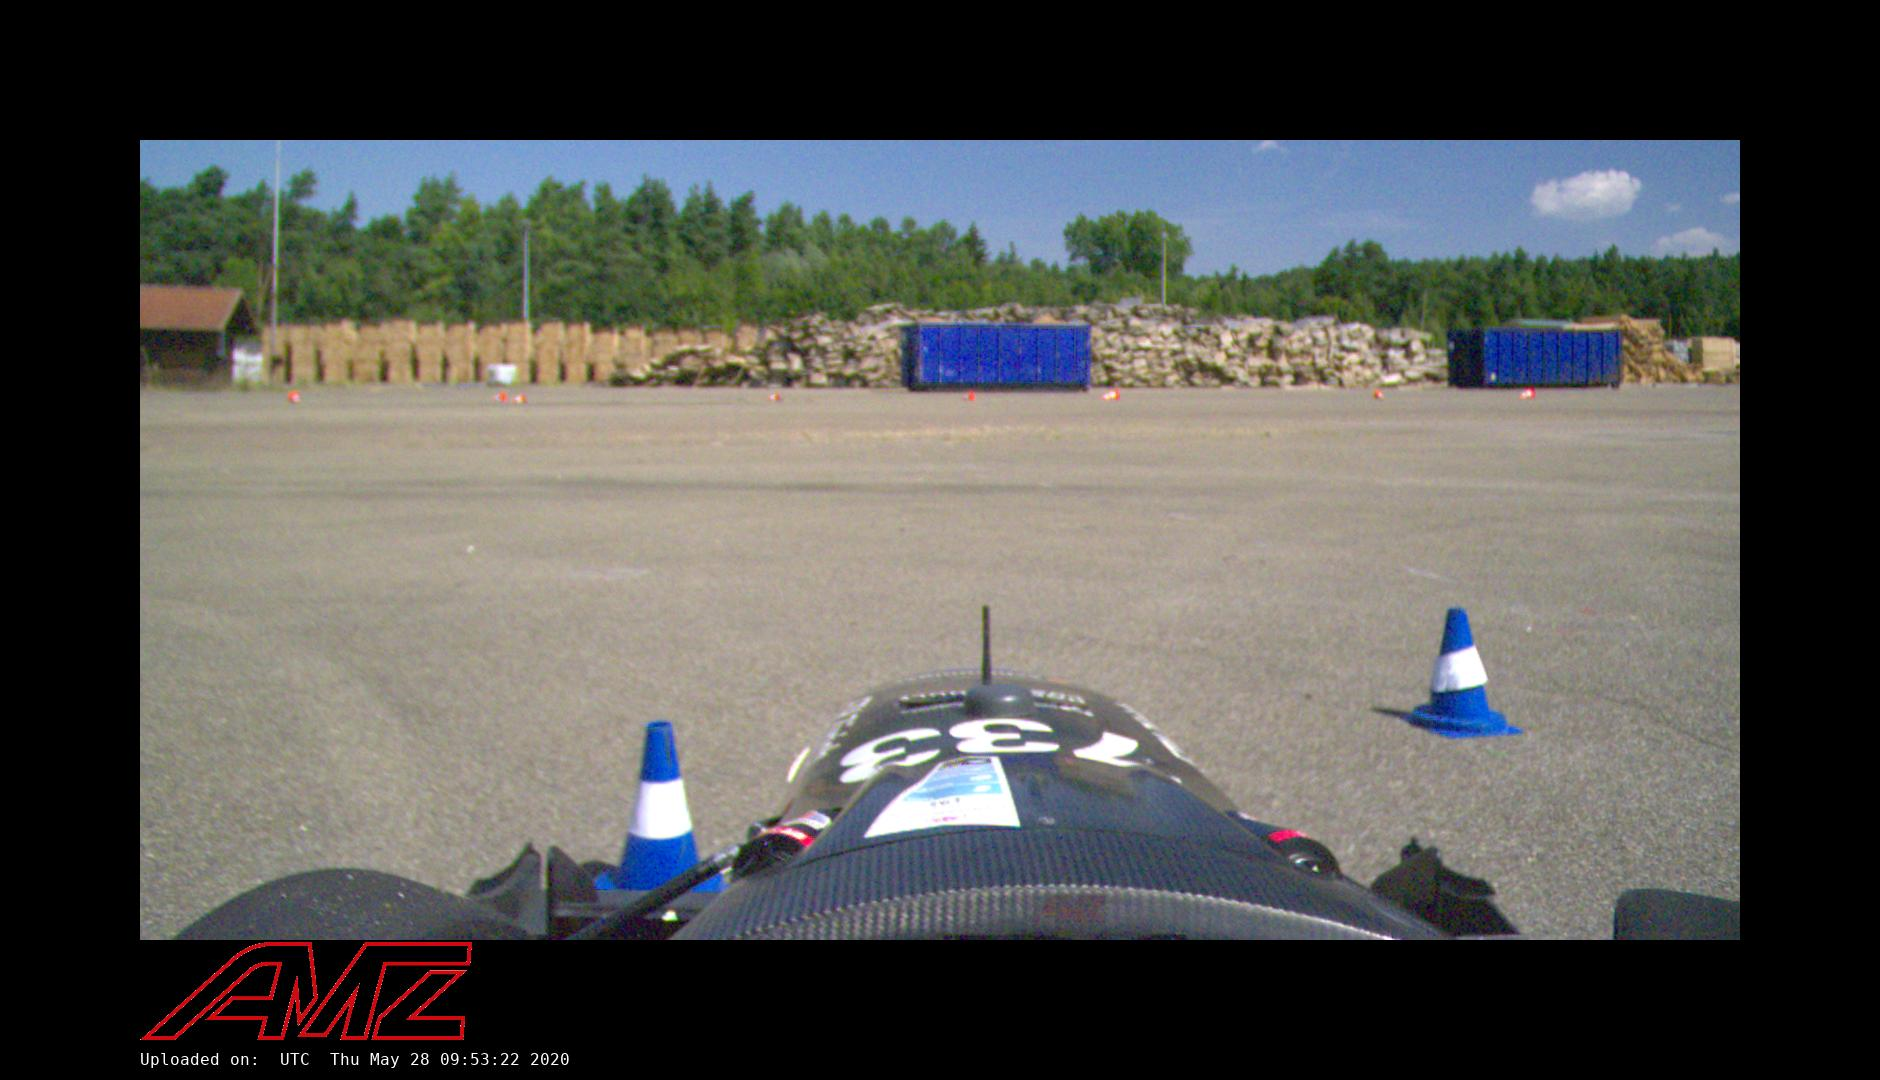blue_cone: (585, 721, 739, 913), (1397, 602, 1527, 738)
orange_cone: (1099, 389, 1119, 402), (1516, 388, 1537, 400), (491, 391, 507, 403), (285, 391, 302, 403), (764, 393, 781, 403), (511, 393, 526, 404), (959, 391, 975, 402), (1373, 391, 1384, 400)
